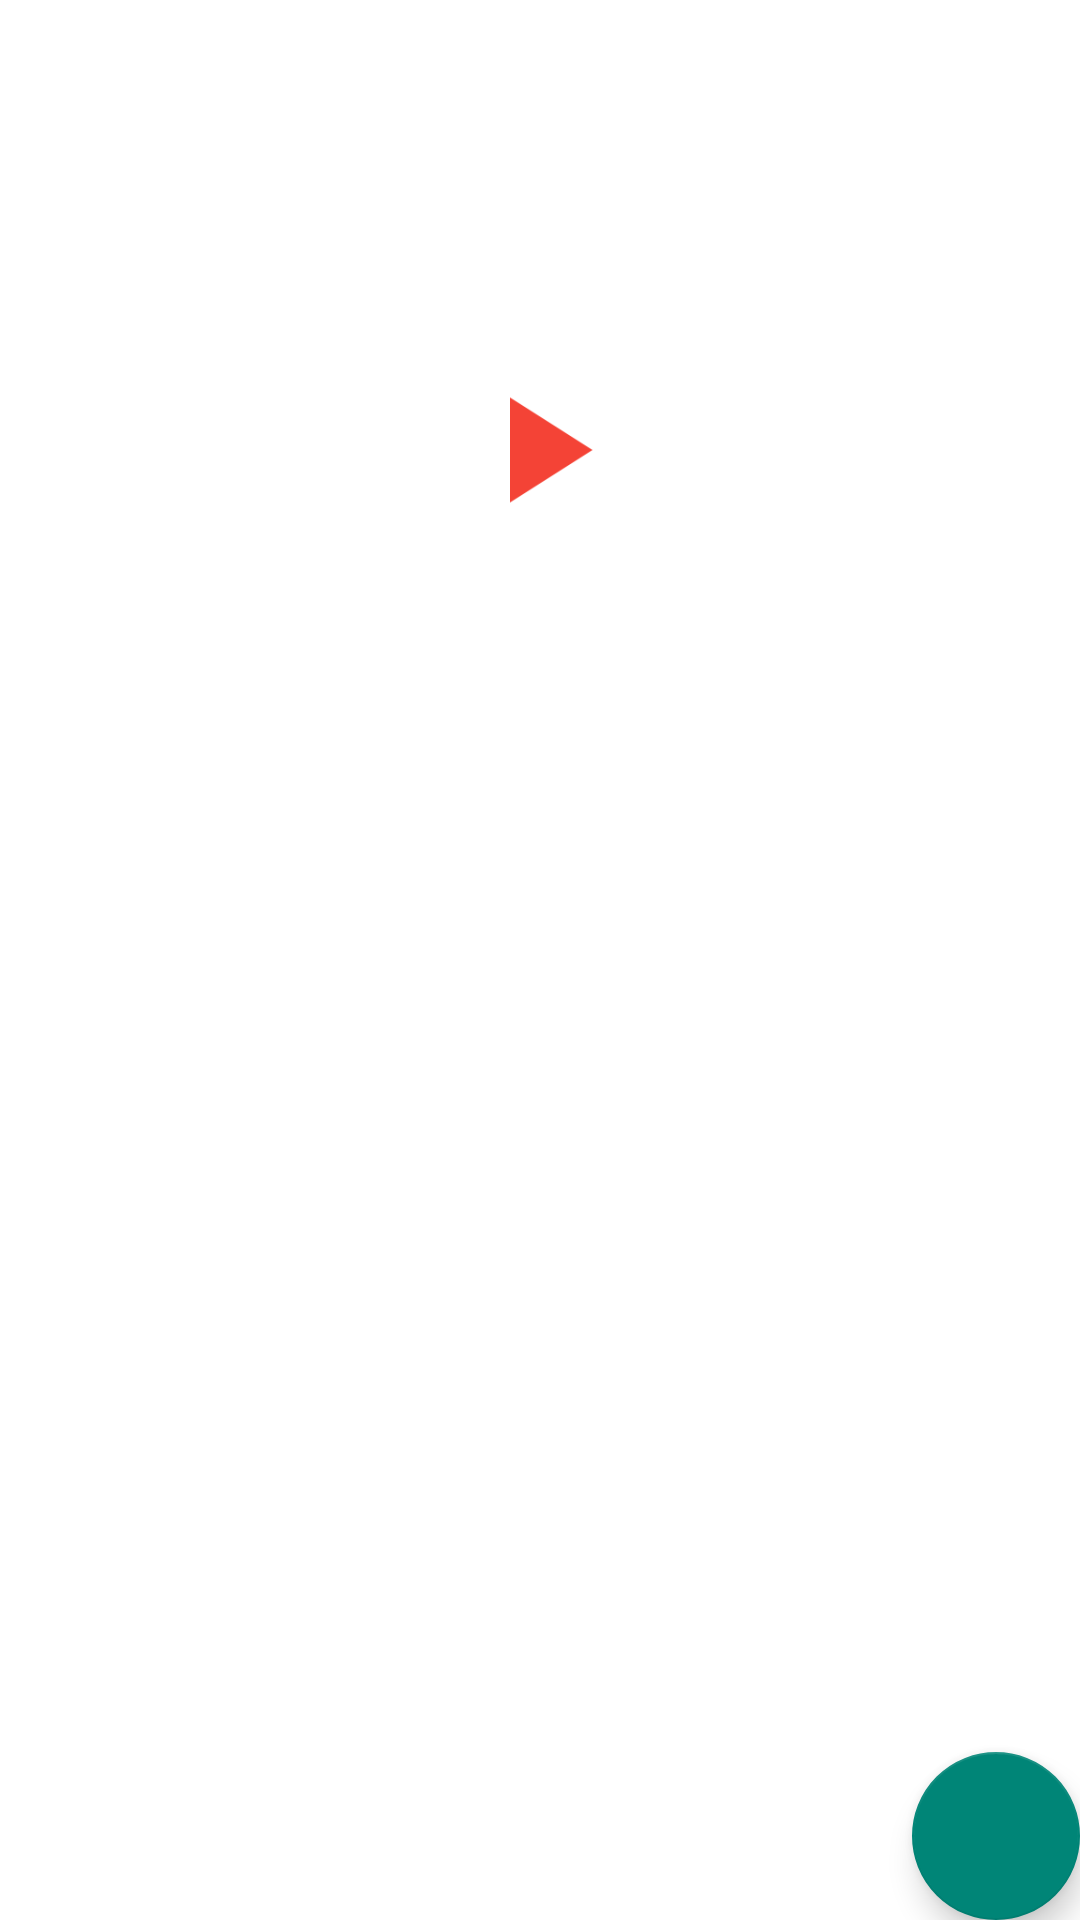

Where icons sit on this 1080x1920 app screen, as (x1,y1,x2,y2):
play arrow: (510,397,593,503)
